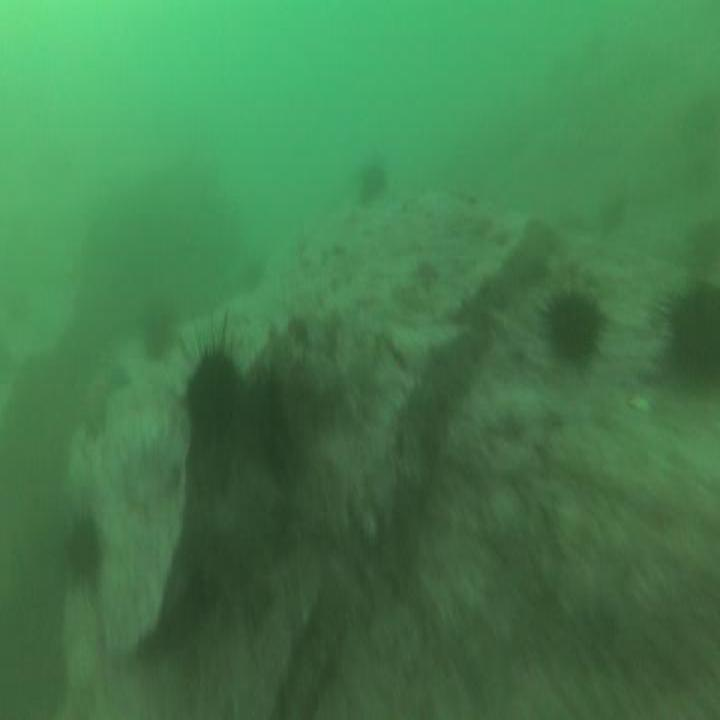echinus: (659, 270, 720, 393), (182, 334, 245, 452), (539, 278, 606, 374), (60, 507, 103, 590), (355, 154, 389, 209), (143, 310, 176, 364)
holothurian: (176, 448, 284, 606), (388, 373, 447, 494)
